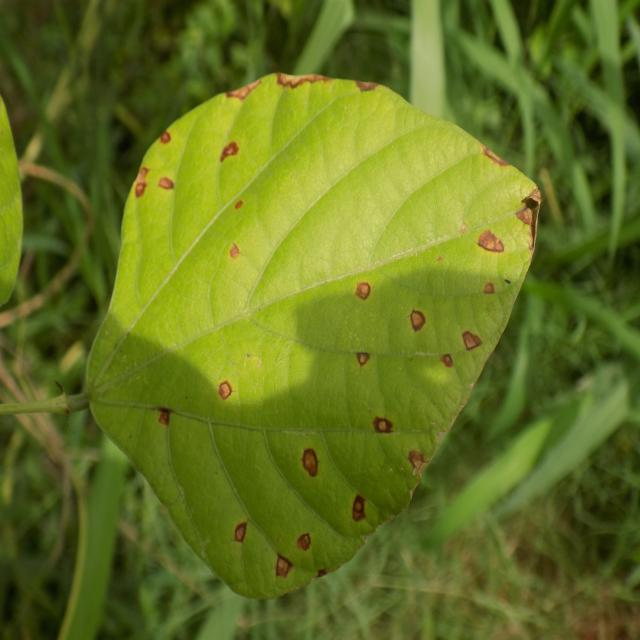Dolicos bean_cercospora leaf spot: (84, 73, 540, 599)
